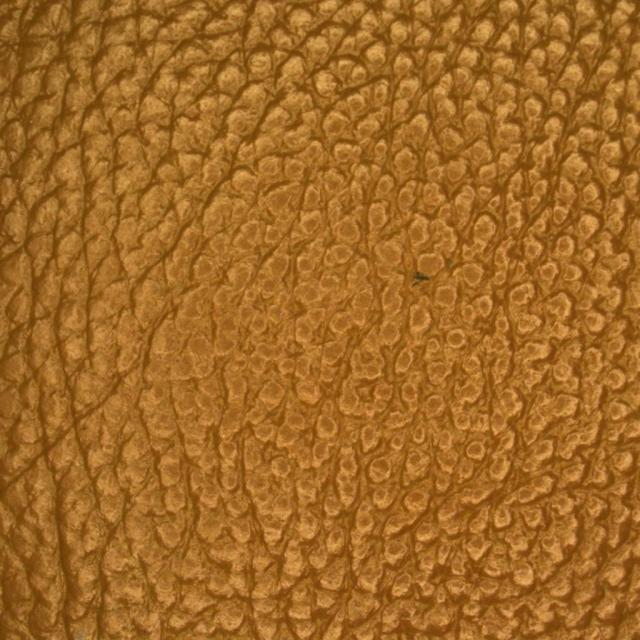pinhole: (358, 183, 482, 367)
